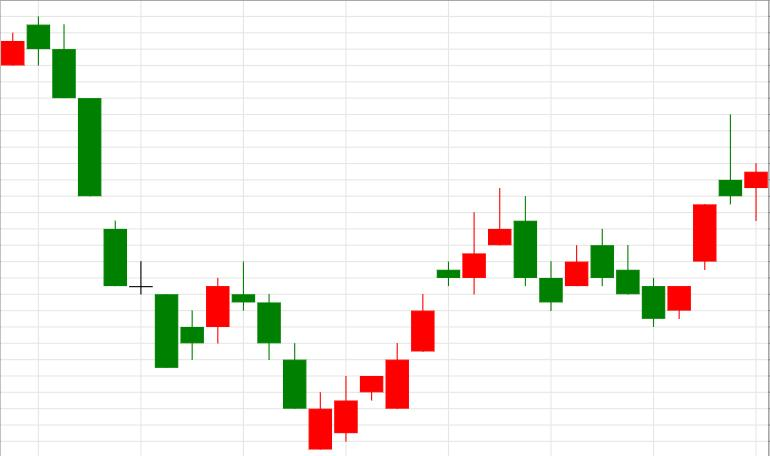shooting_star_fall: (309, 213, 485, 449)
